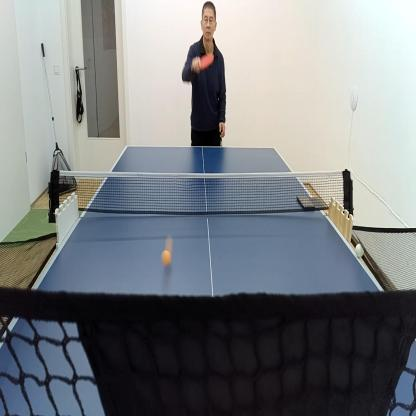Ball: (164, 237, 172, 260), (163, 250, 171, 264), (356, 244, 362, 257)
